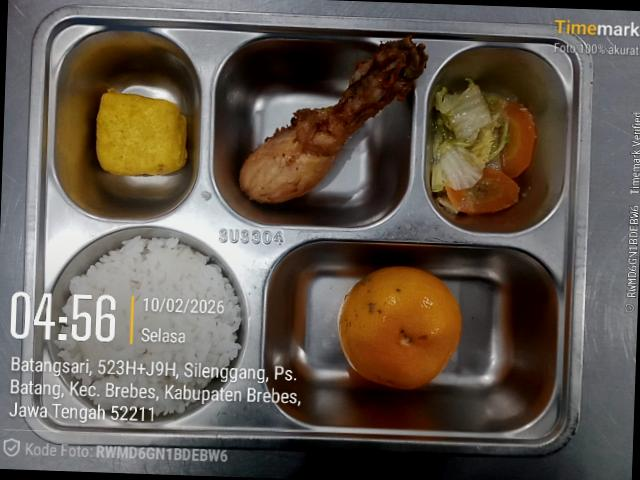ayam: (239, 36, 427, 203)
buah: (338, 266, 462, 389)
nasi: (55, 236, 241, 415)
sayur: (430, 78, 535, 215)
tahu: (97, 89, 187, 175)
